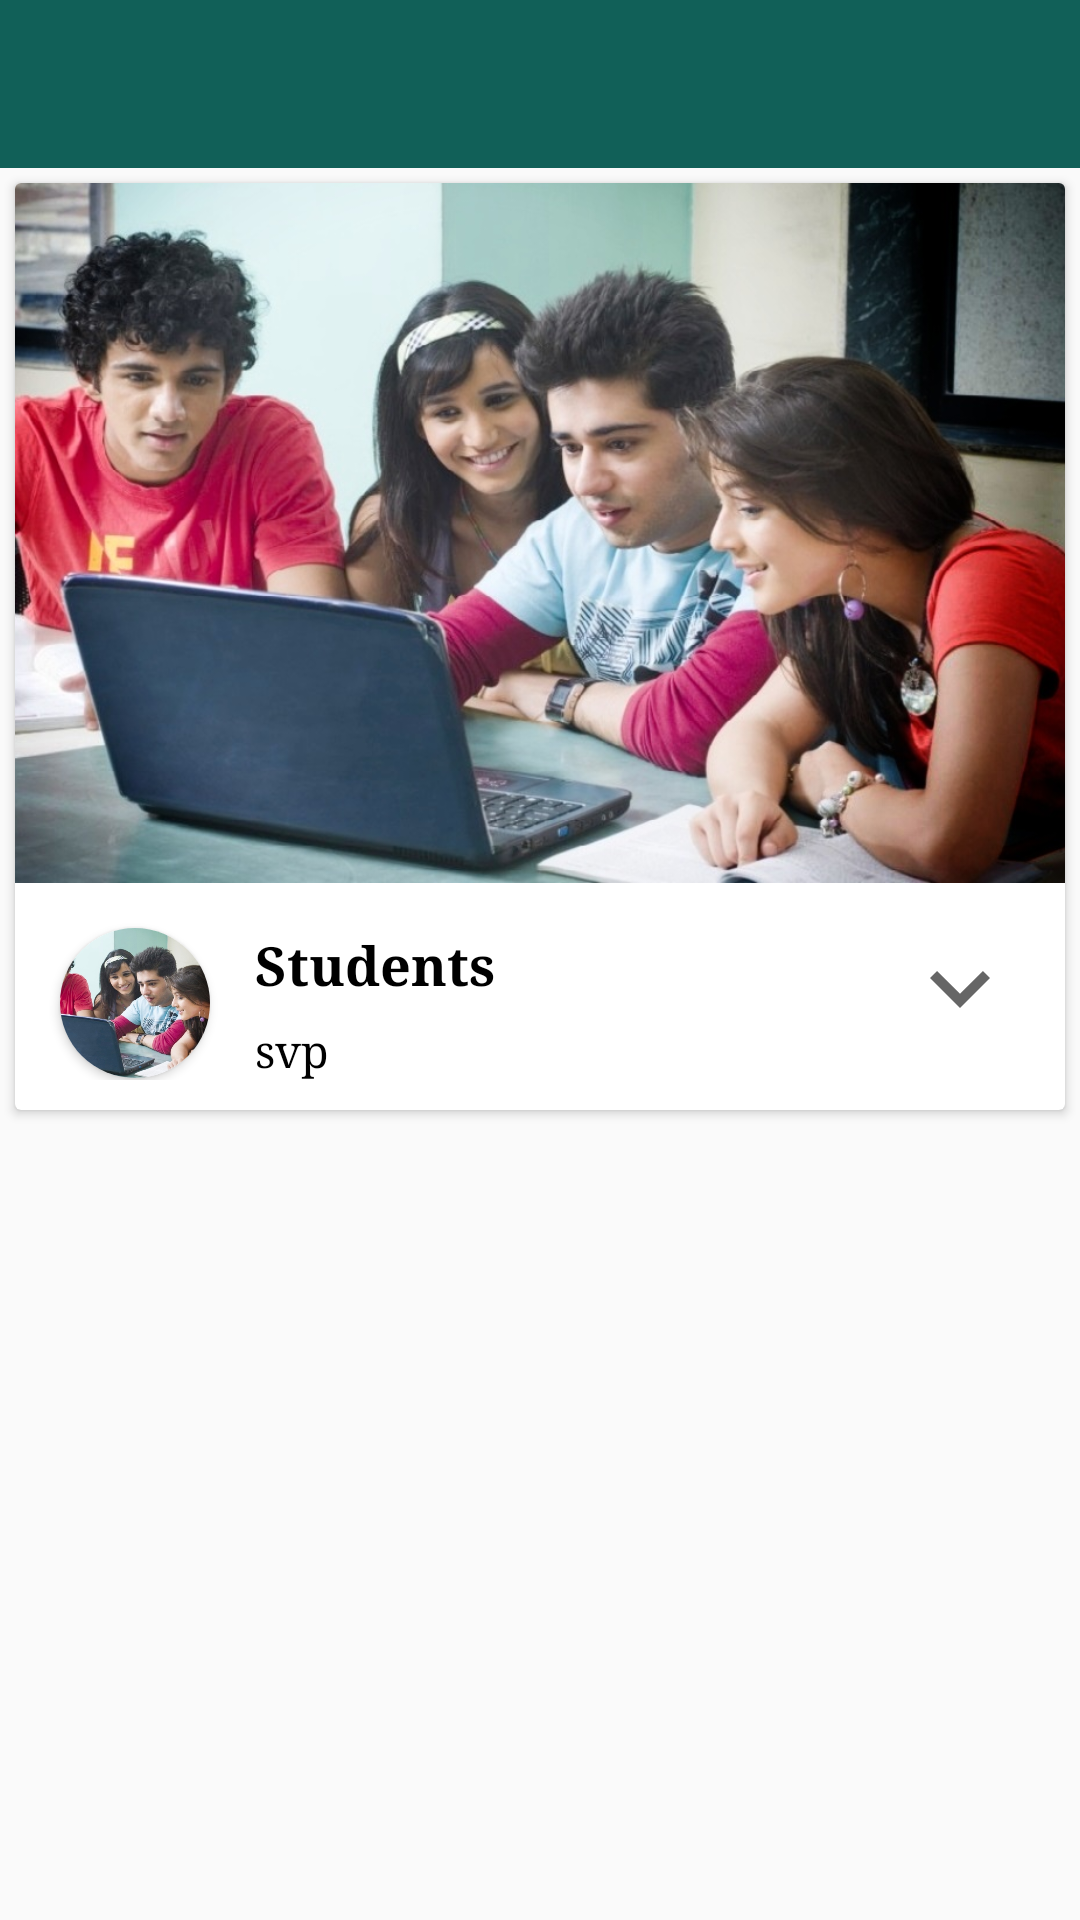

Icon click points for this 1080×1920 phone screenshot, format point (x, y):
down: point (960, 989)
